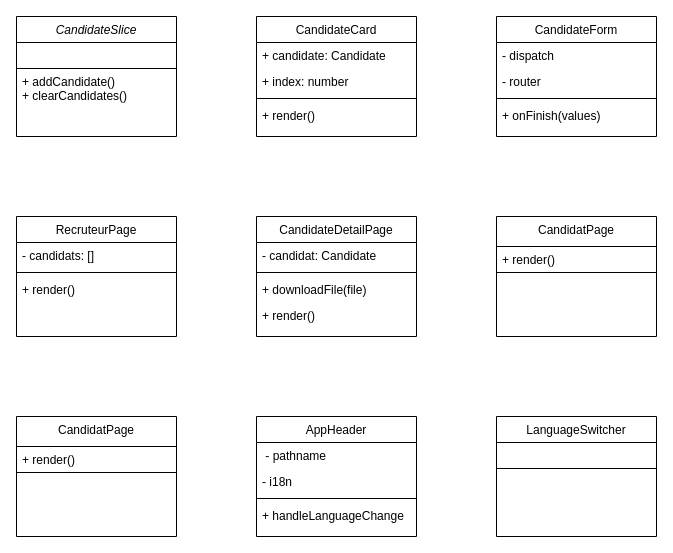
The diagram is 673 pixels wide and 553 high, and some of its shapes have lost their labels. The shapes that lost their labels are listed below. From the top down, each one's centre as x and y in pixels, then its label:
At [96,55]: "- list: Candidate[]".
At [576,455]: "+ i18n.changeLanguage()".
